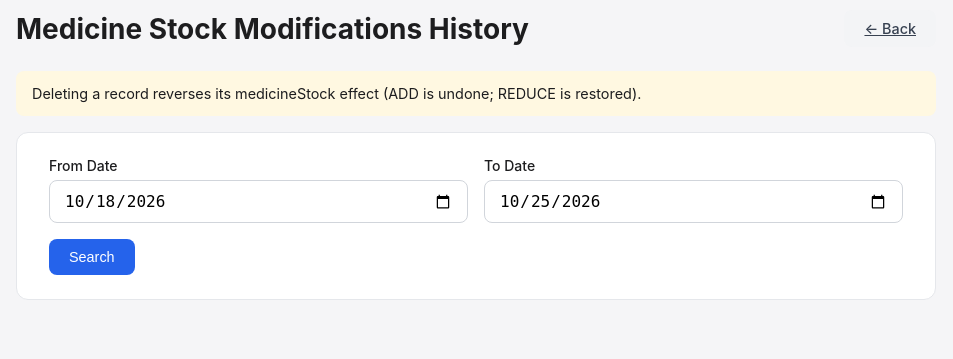
Test: ViewMedicineStockAdjustments — search › shows empty-state message when no records found
Click the button "Search".
click(92, 257)  # box [49,239,135,275]
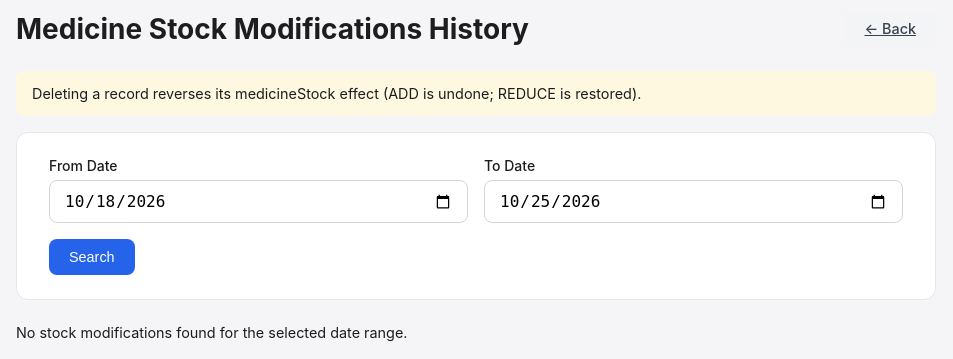
Now the text "No stock modifications found for the selected date range." is shown, box [16,324,408,341]
